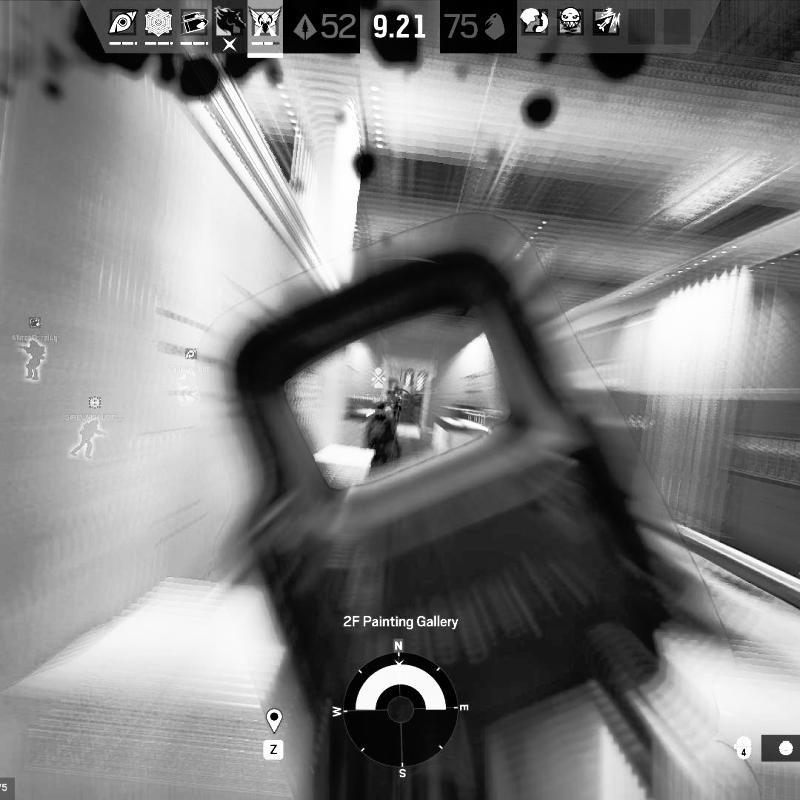Character: (364, 401, 403, 474), (392, 383, 406, 427)
Friend_label: (64, 395, 127, 424), (12, 314, 60, 345), (174, 346, 212, 374)
Head: (372, 402, 387, 417), (393, 384, 400, 392)
